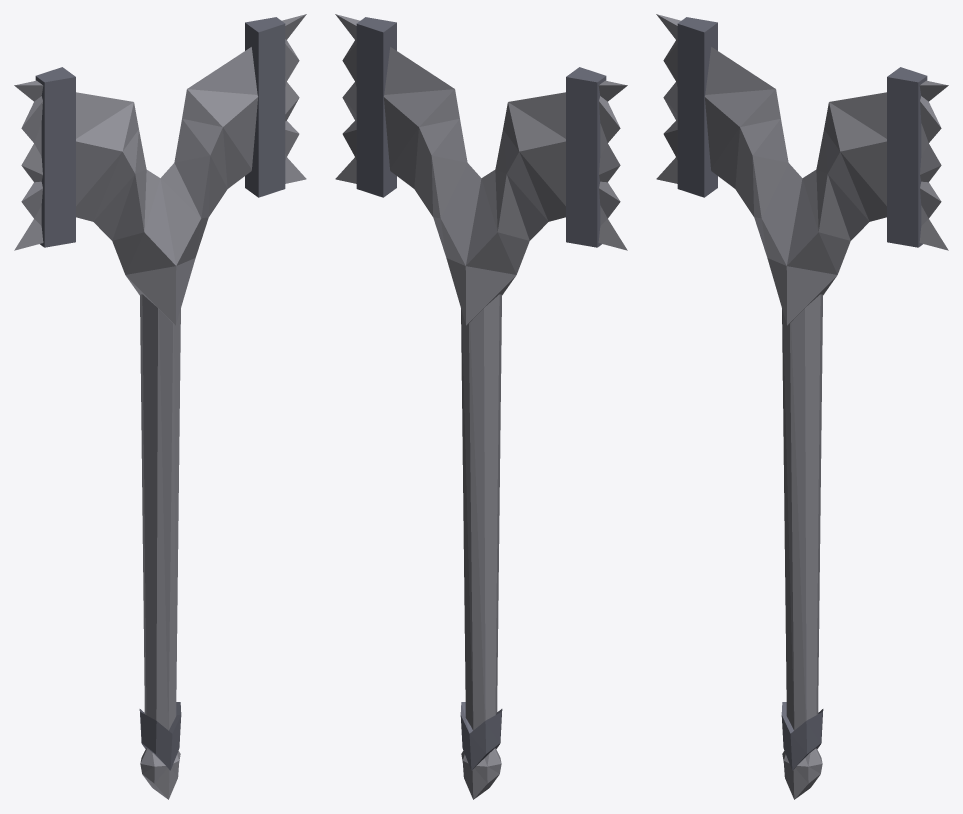
The model's file is hammer_hammer_9.glb.
3 renders of one model, left to right at view 1: azimuth 30°, elevation 25°; view 2: azimuth 150°, elevation 25°; view 3: azimuth 330°, elevation 25°, orthographic.
Visible parts, largest first — view 1: hammer_9; view 2: hammer_9; view 3: hammer_9.
Part boxes in pixels (left/top/right/bottom): hammer_9: left=14, top=14, right=306, bottom=799; hammer_9: left=335, top=14, right=627, bottom=799; hammer_9: left=656, top=14, right=948, bottom=799.
Bounding box in the file's own units: 35.15 × 85.34 × 6.52.
Materials: 1 (1 with a texture image).
